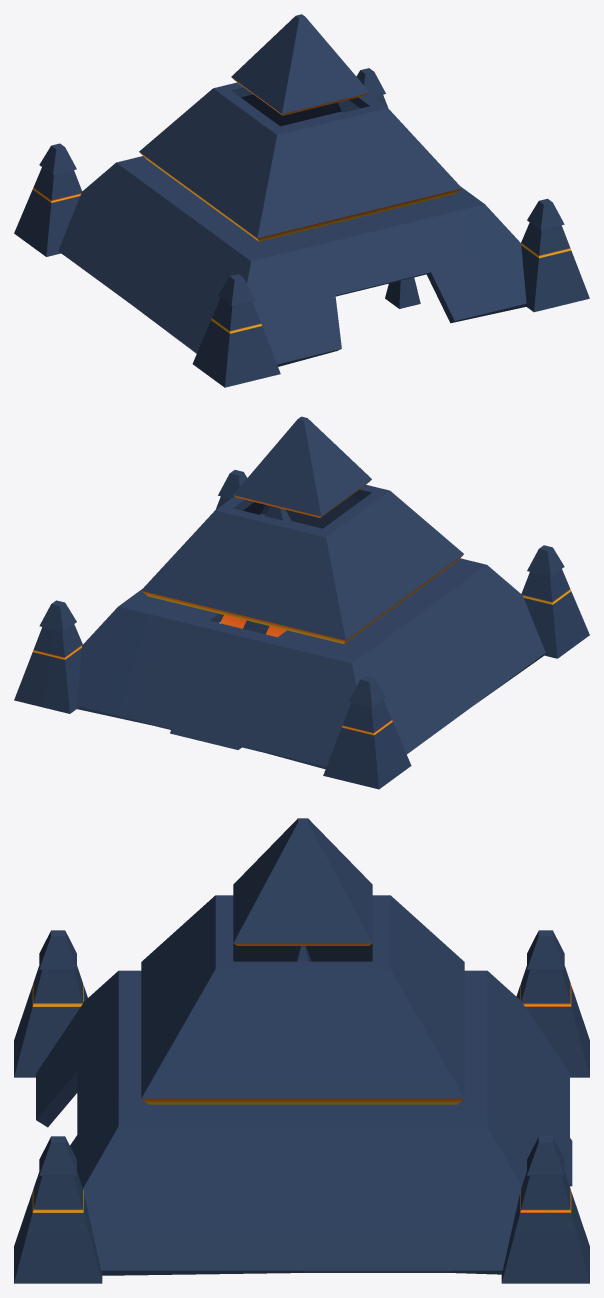
Rendered from Piramide_final.fbx.
3 renders of one model, top to bottom at view 1: azimuth 30°, elevation 25°; view 2: azimuth 150°, elevation 25°; view 3: azimuth 270°, elevation 25°, orthographic. The views are drawn at different scales.
Visible parts, largest first — view 1: Piramide_final; view 2: Piramide_final; view 3: Piramide_final.
Boxes of the visible parts, x1=… form: Piramide_final: x1=14, y1=14, x2=589, y2=387; Piramide_final: x1=14, y1=416, x2=589, y2=789; Piramide_final: x1=14, y1=818, x2=589, y2=1283.
Bounding box in the file's own units: 142 × 98.85 × 142.
